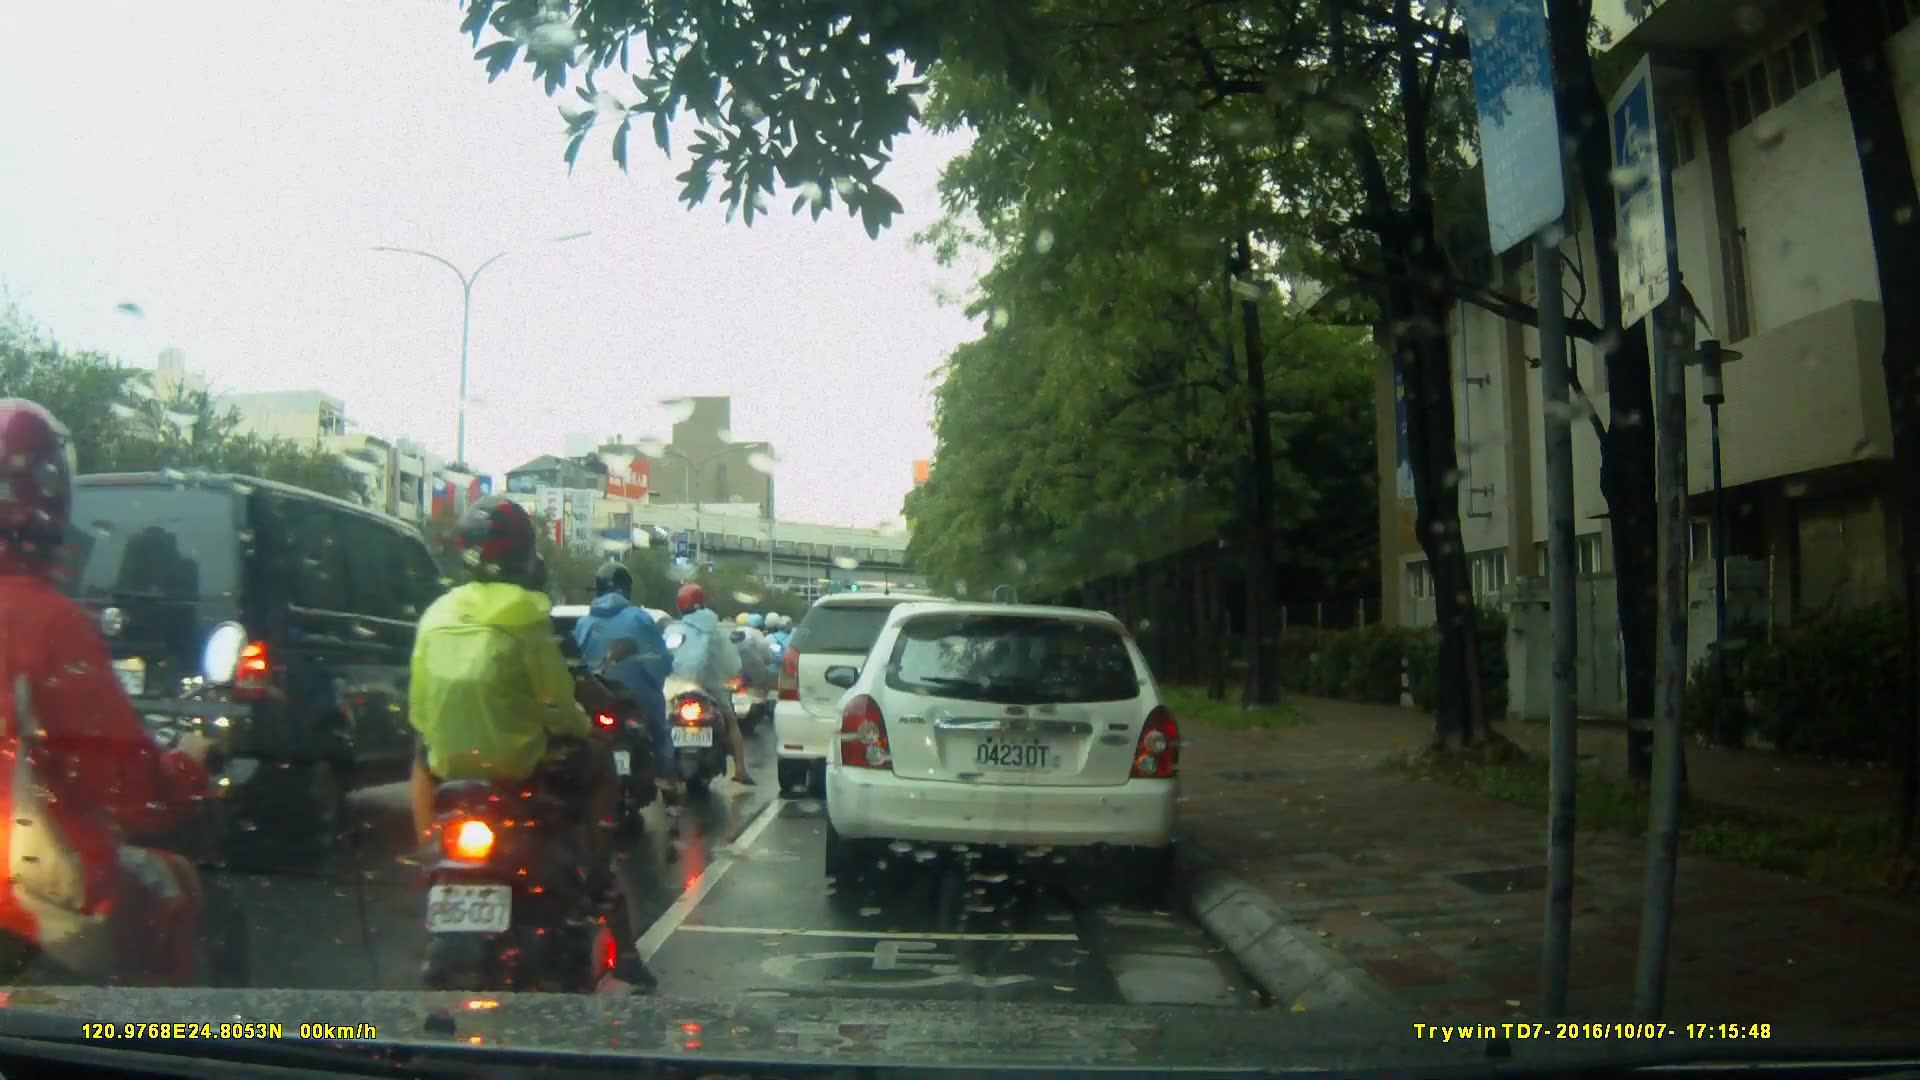rider: (3, 405, 249, 1078), (396, 495, 659, 997), (432, 566, 590, 908), (564, 565, 682, 837), (654, 585, 747, 794), (721, 612, 774, 734)
vehicle: (21, 462, 450, 865), (822, 604, 1188, 883), (438, 598, 689, 780), (774, 595, 995, 802)
